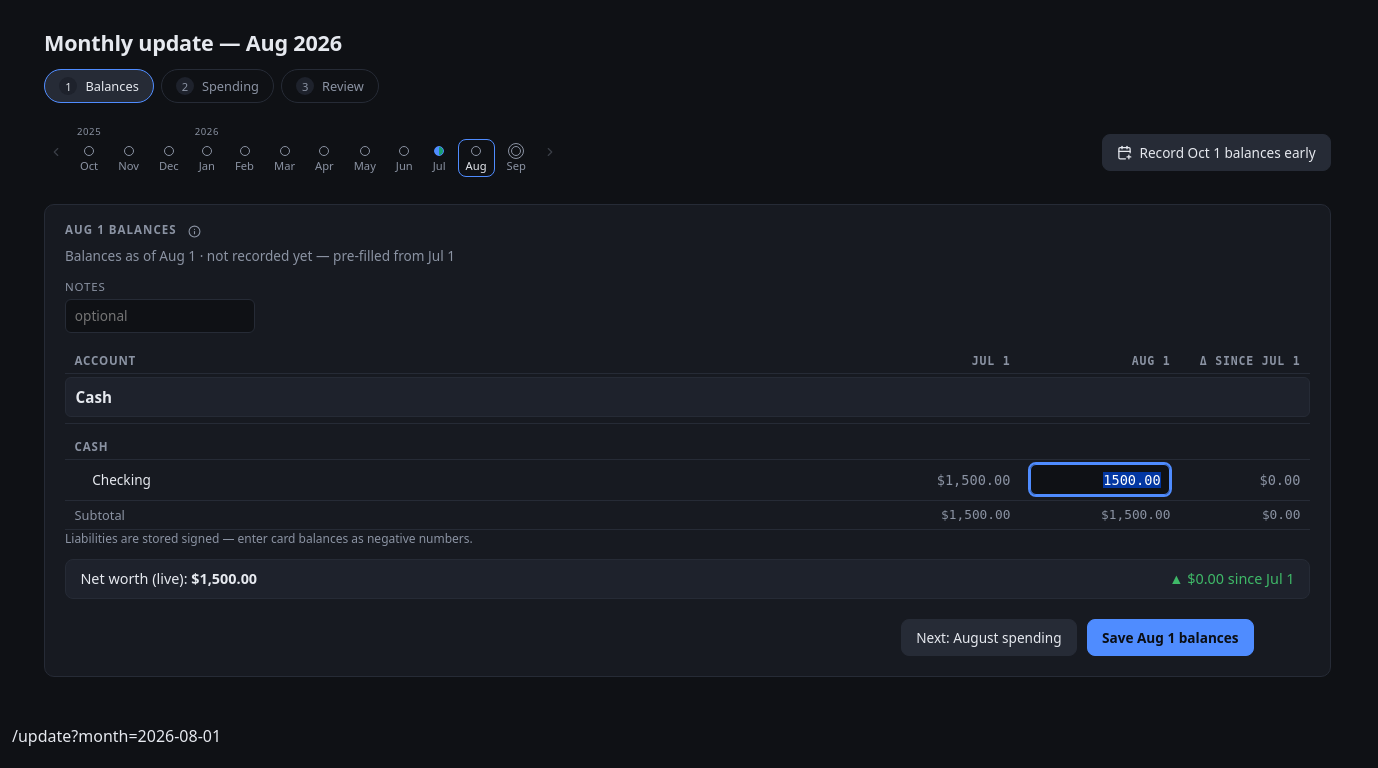
Scenario: walks balances -> spending -> review and submits both PUTs
Replace the text in the field labelled "Checking" with "1600.00" at (1100, 480), box [1030,464,1170,495]
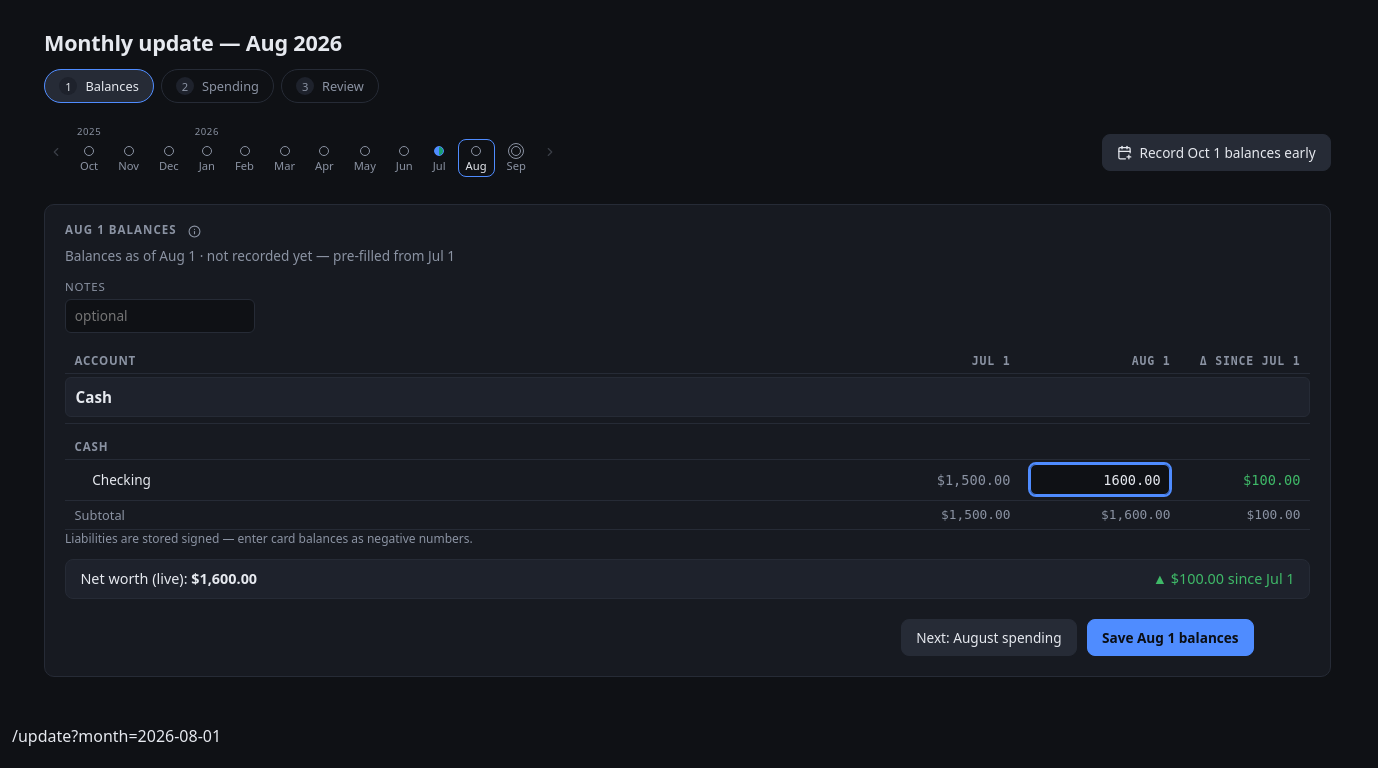
Click the button "Next: August spending" at (989, 637), box [901,619,1077,656]
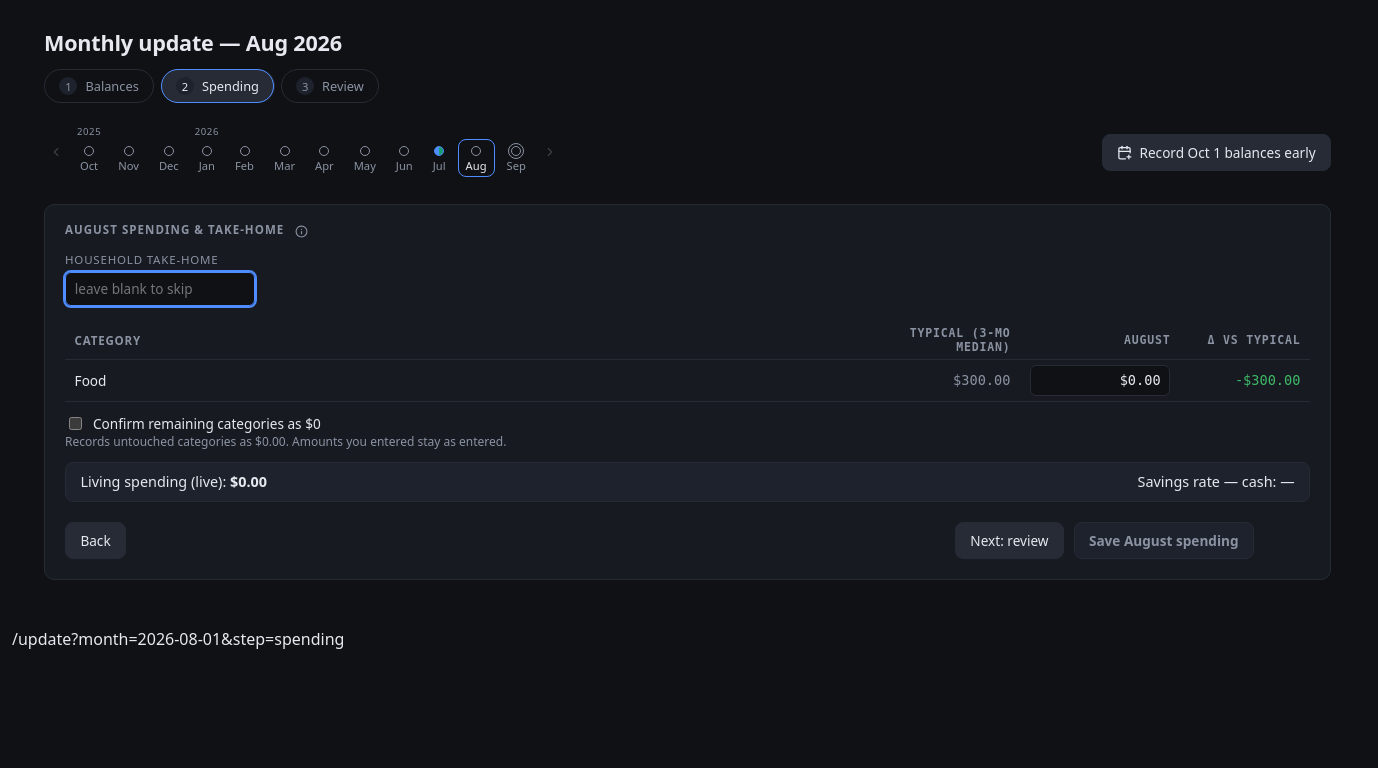
Now the field labelled "Food" holds "$0.00"
Replace the text in the field labelled "Food" with "250.00" at (1100, 380), box [1030,365,1170,396]
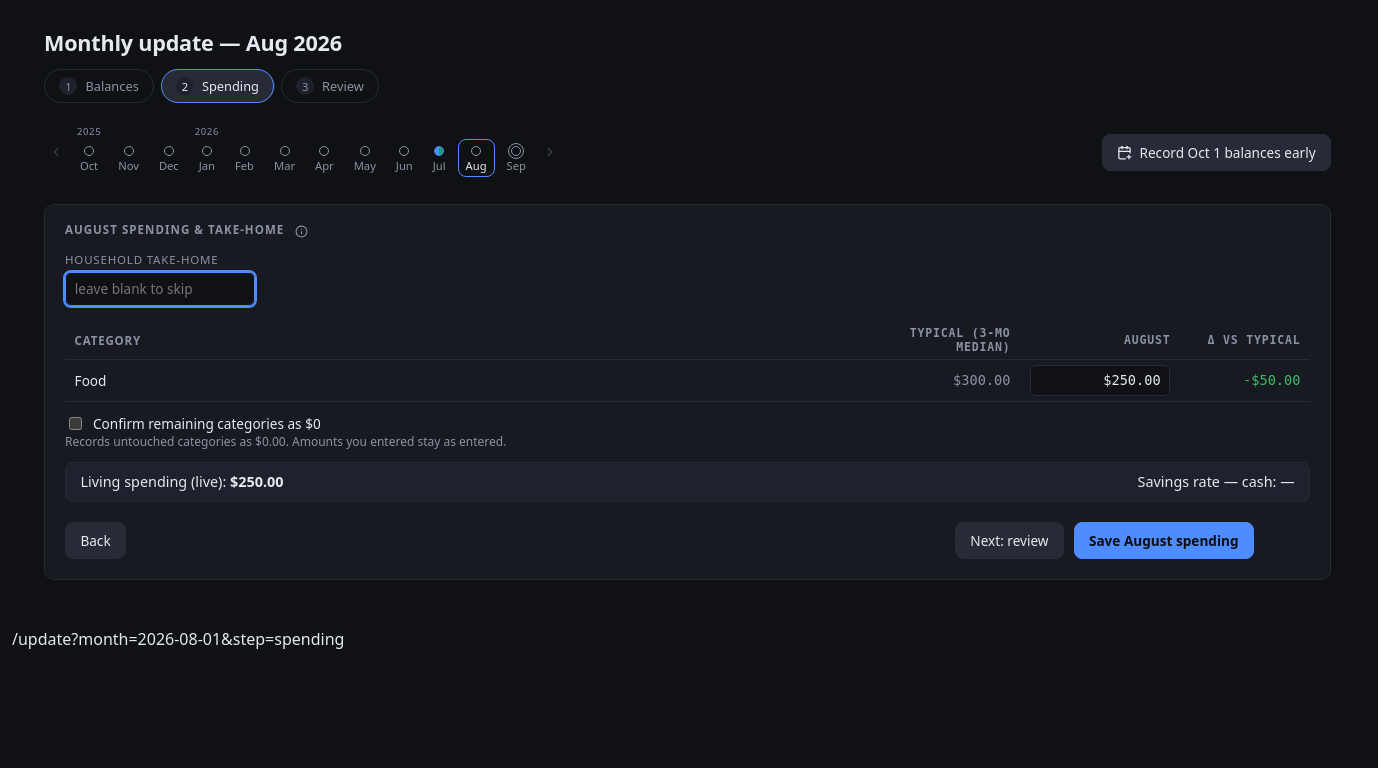
Type "9000.00" into the field labelled "Household take-home" at (160, 289), box [65,272,255,306]
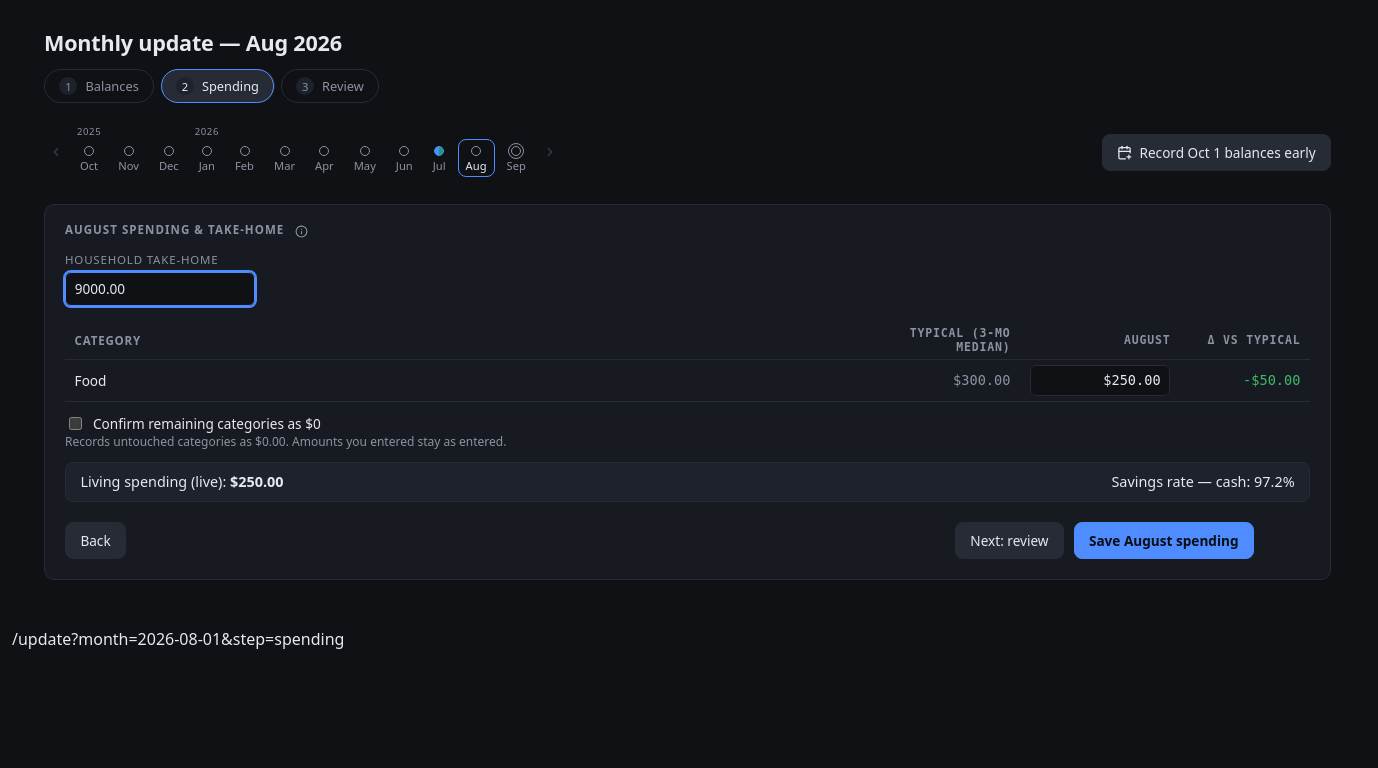
Click the button "Next: review" at (1009, 540), box [955,522,1064,559]
(page scrolled)
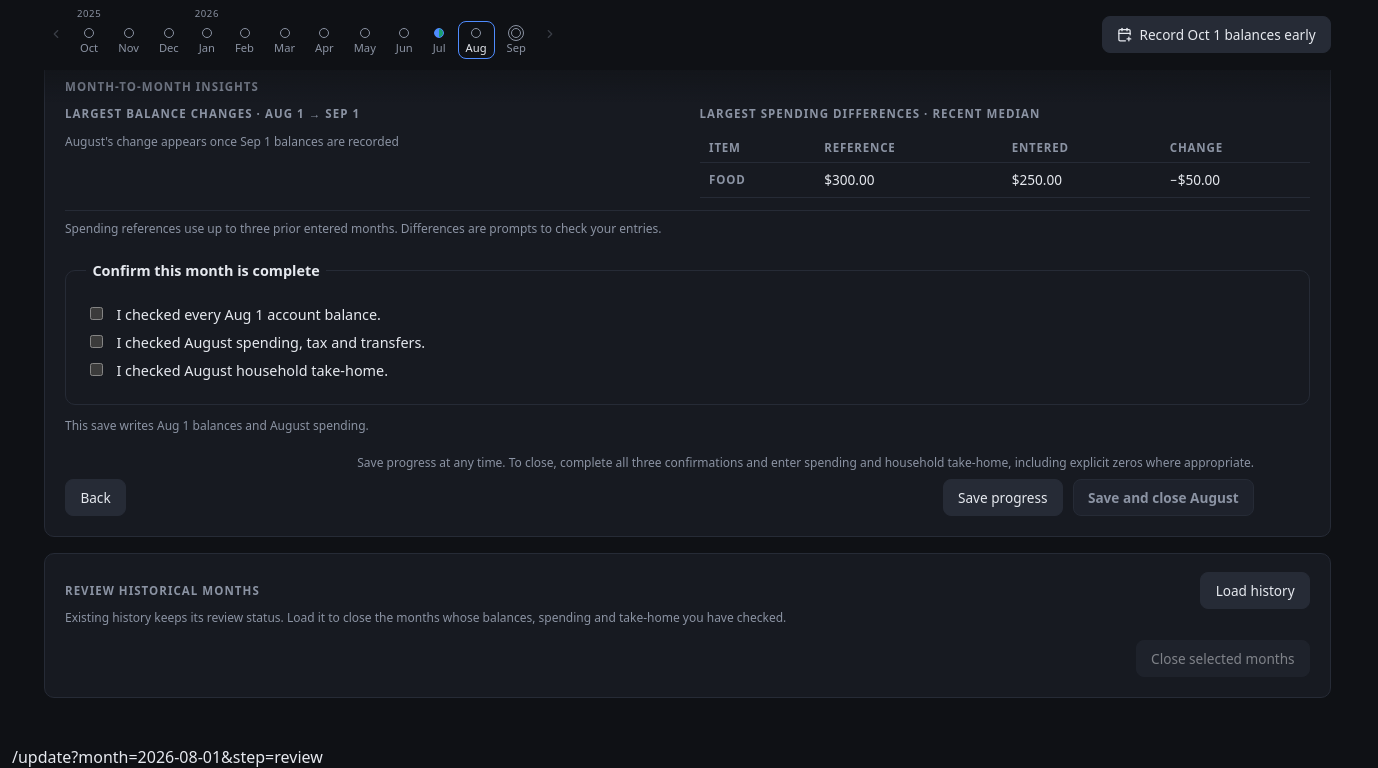
Click the button "Save progress" at (1003, 498), box [943,479,1063,516]
(page scrolled)
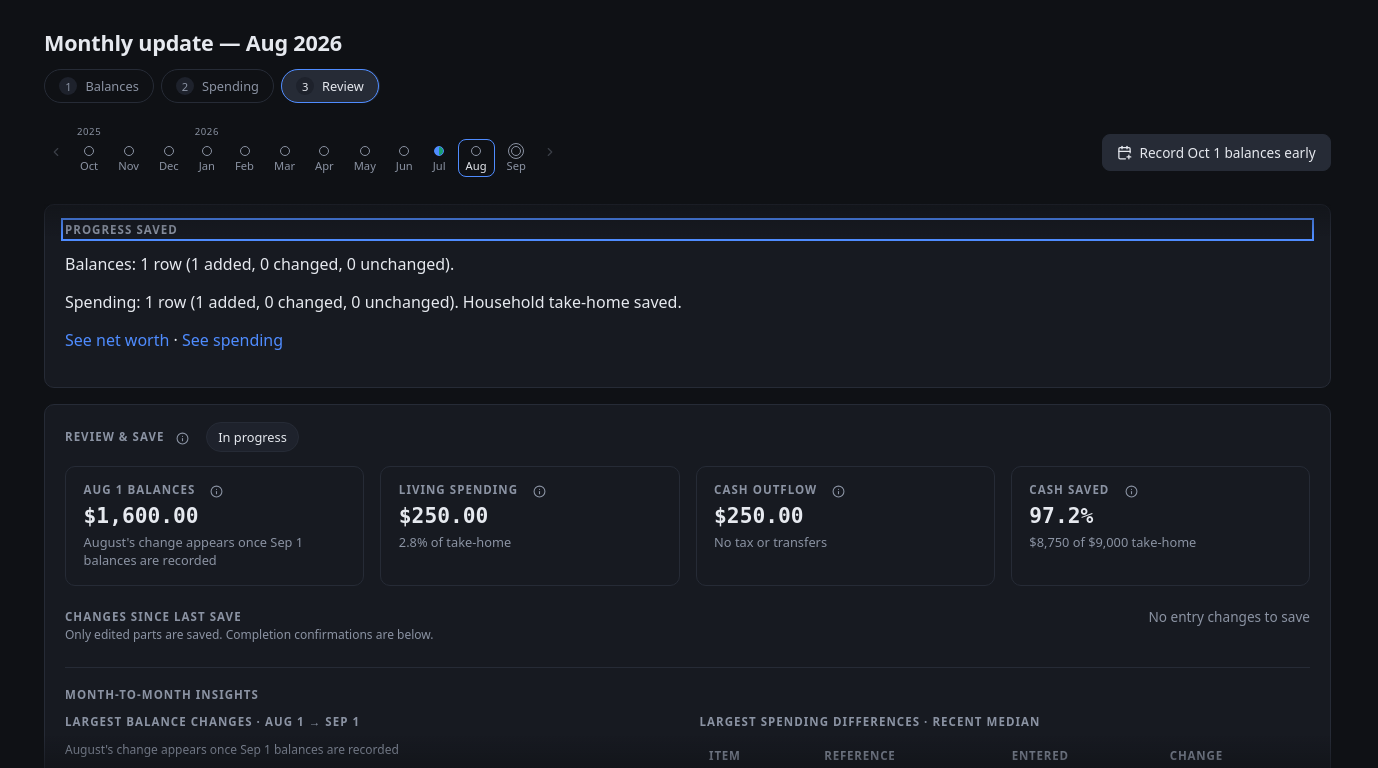
Now the heading "Progress saved" is shown, box [65,222,178,237]
